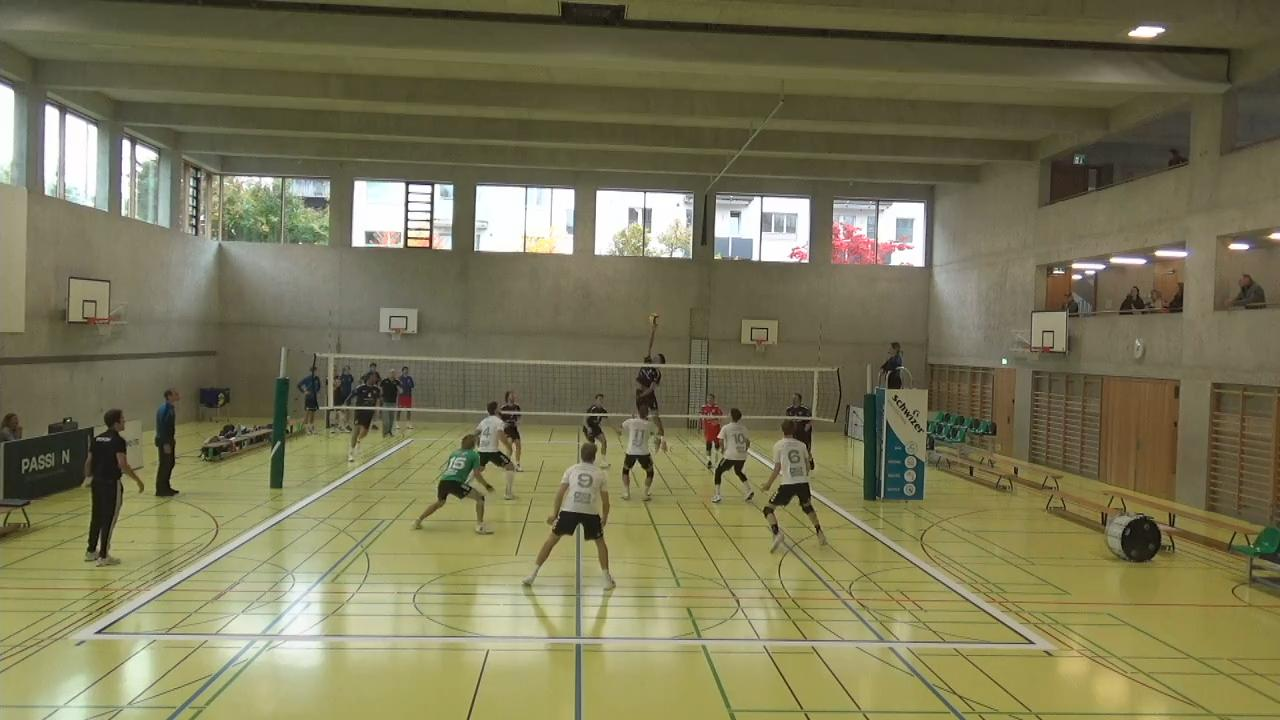attacco: (631, 312, 670, 456)
